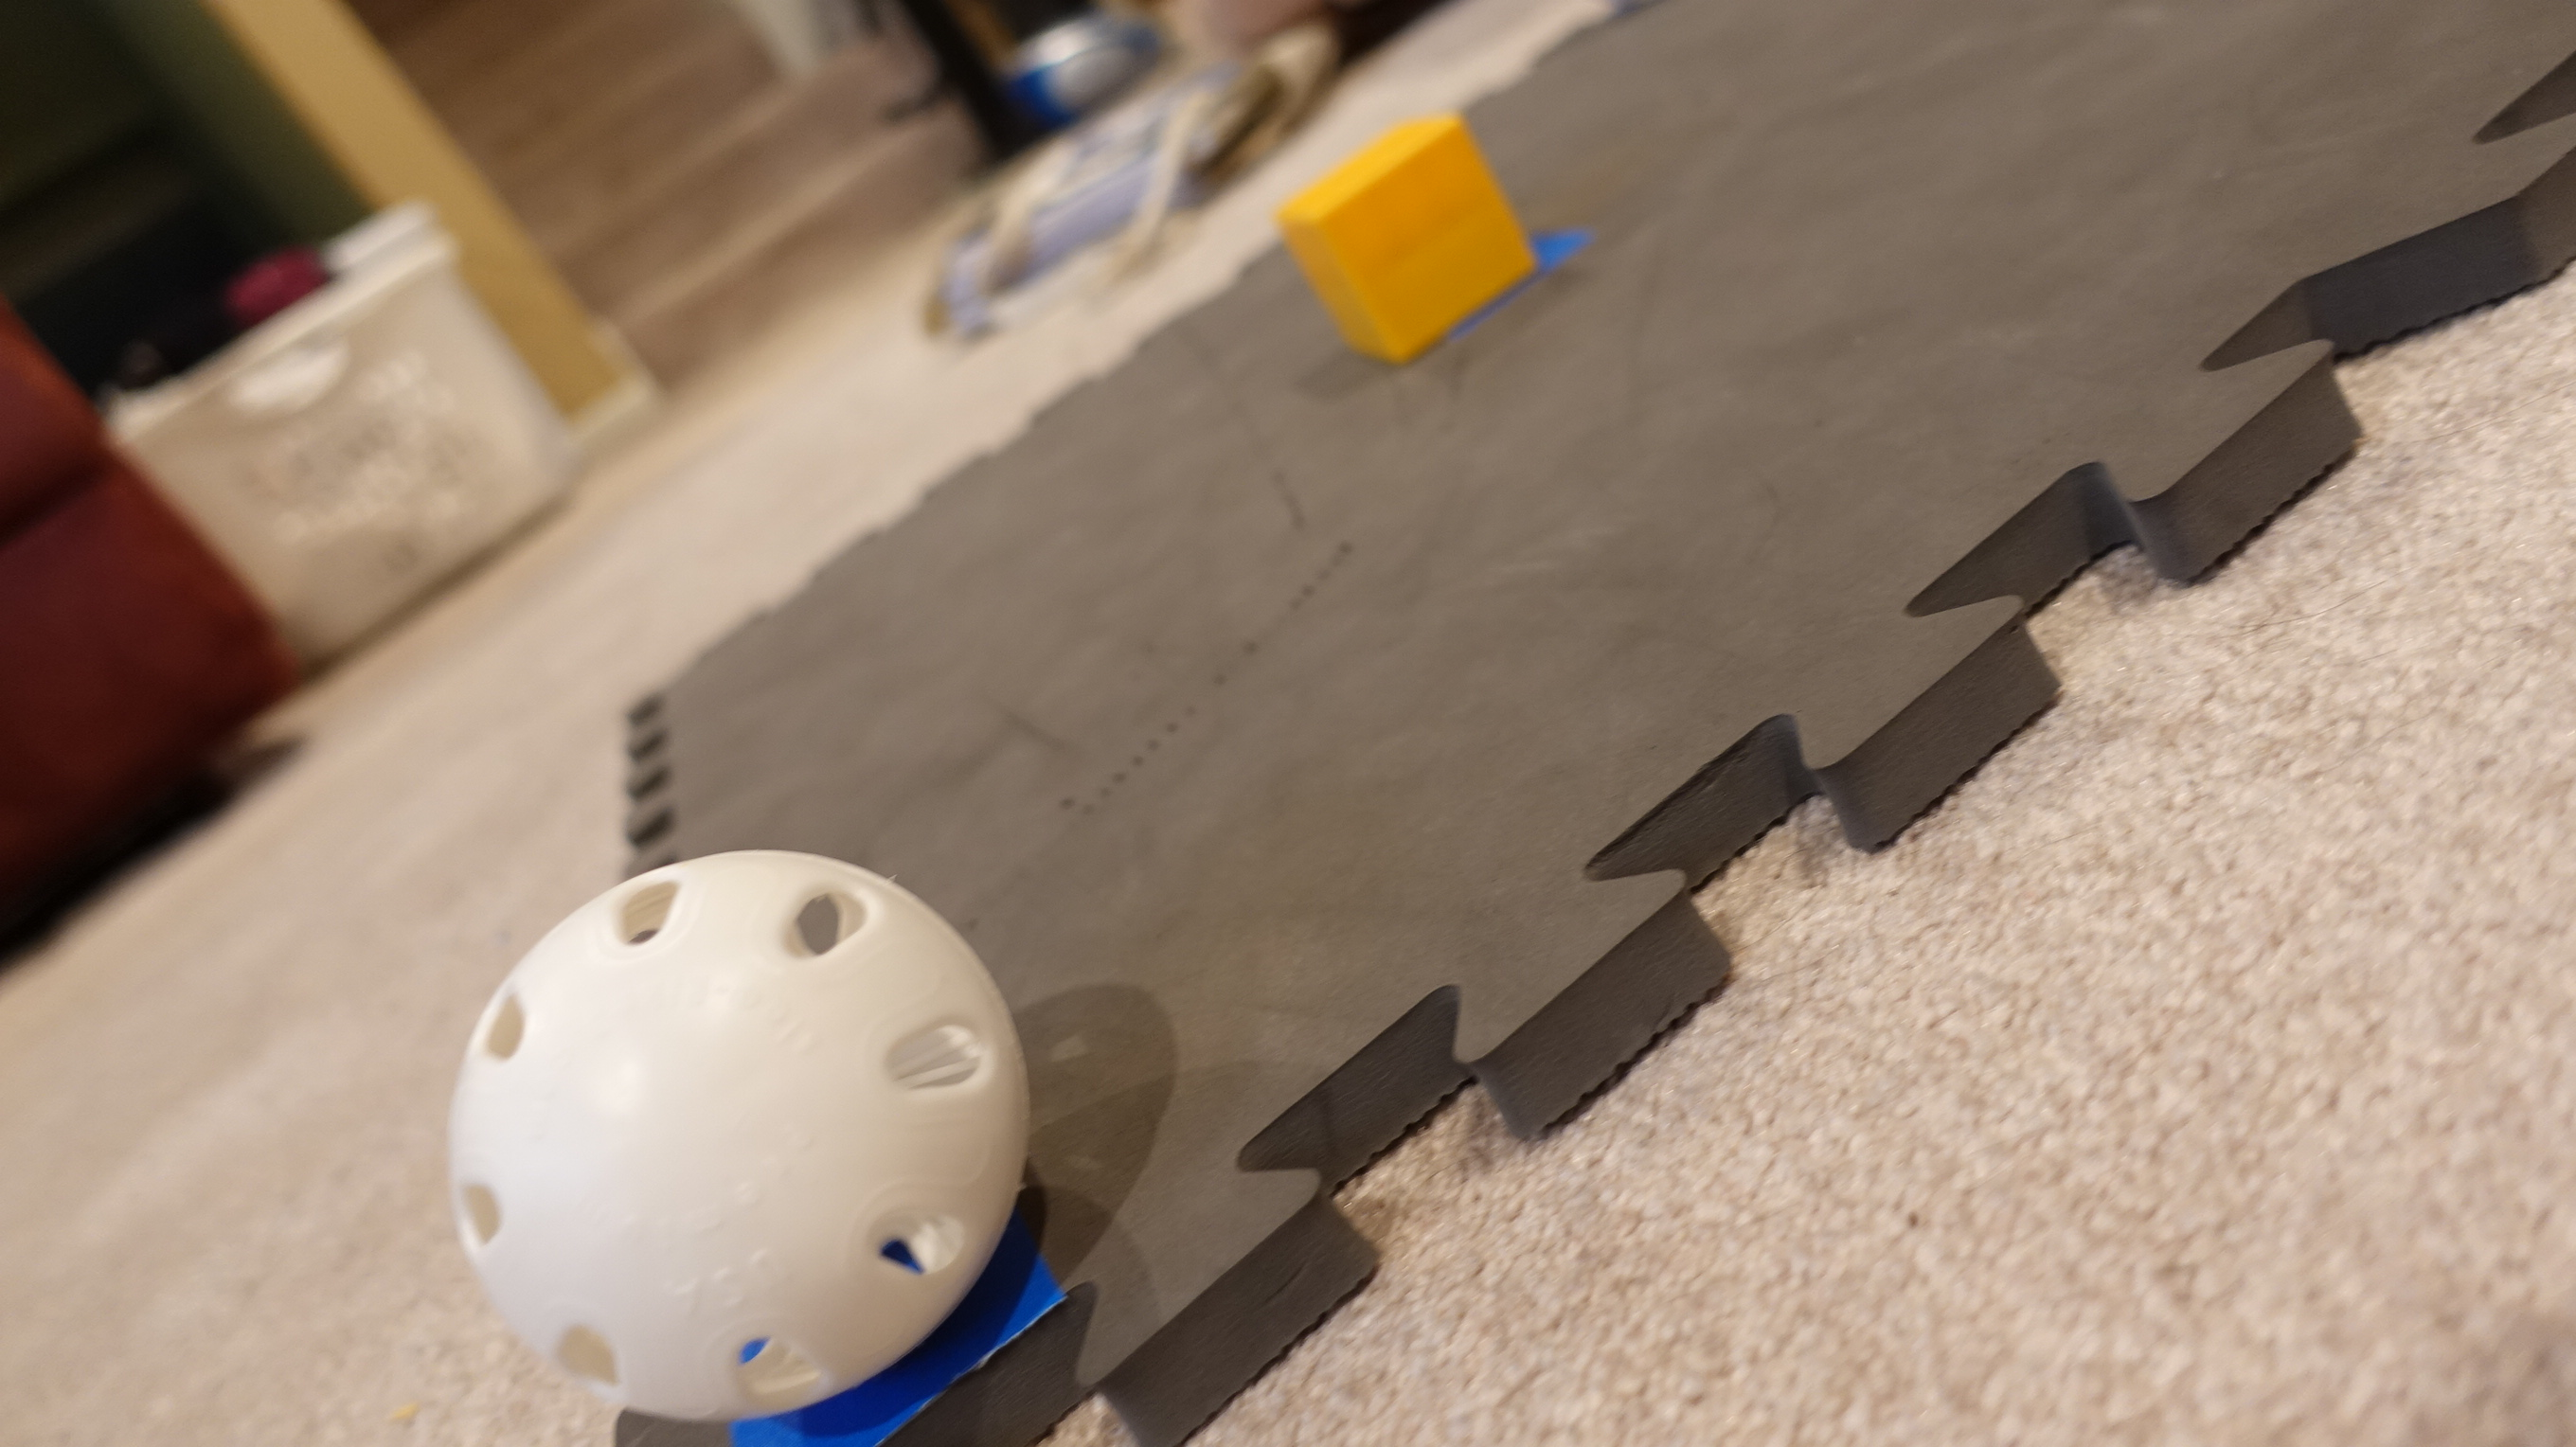gold: (1274, 106, 1545, 368)
silver: (435, 849, 1033, 1420)
